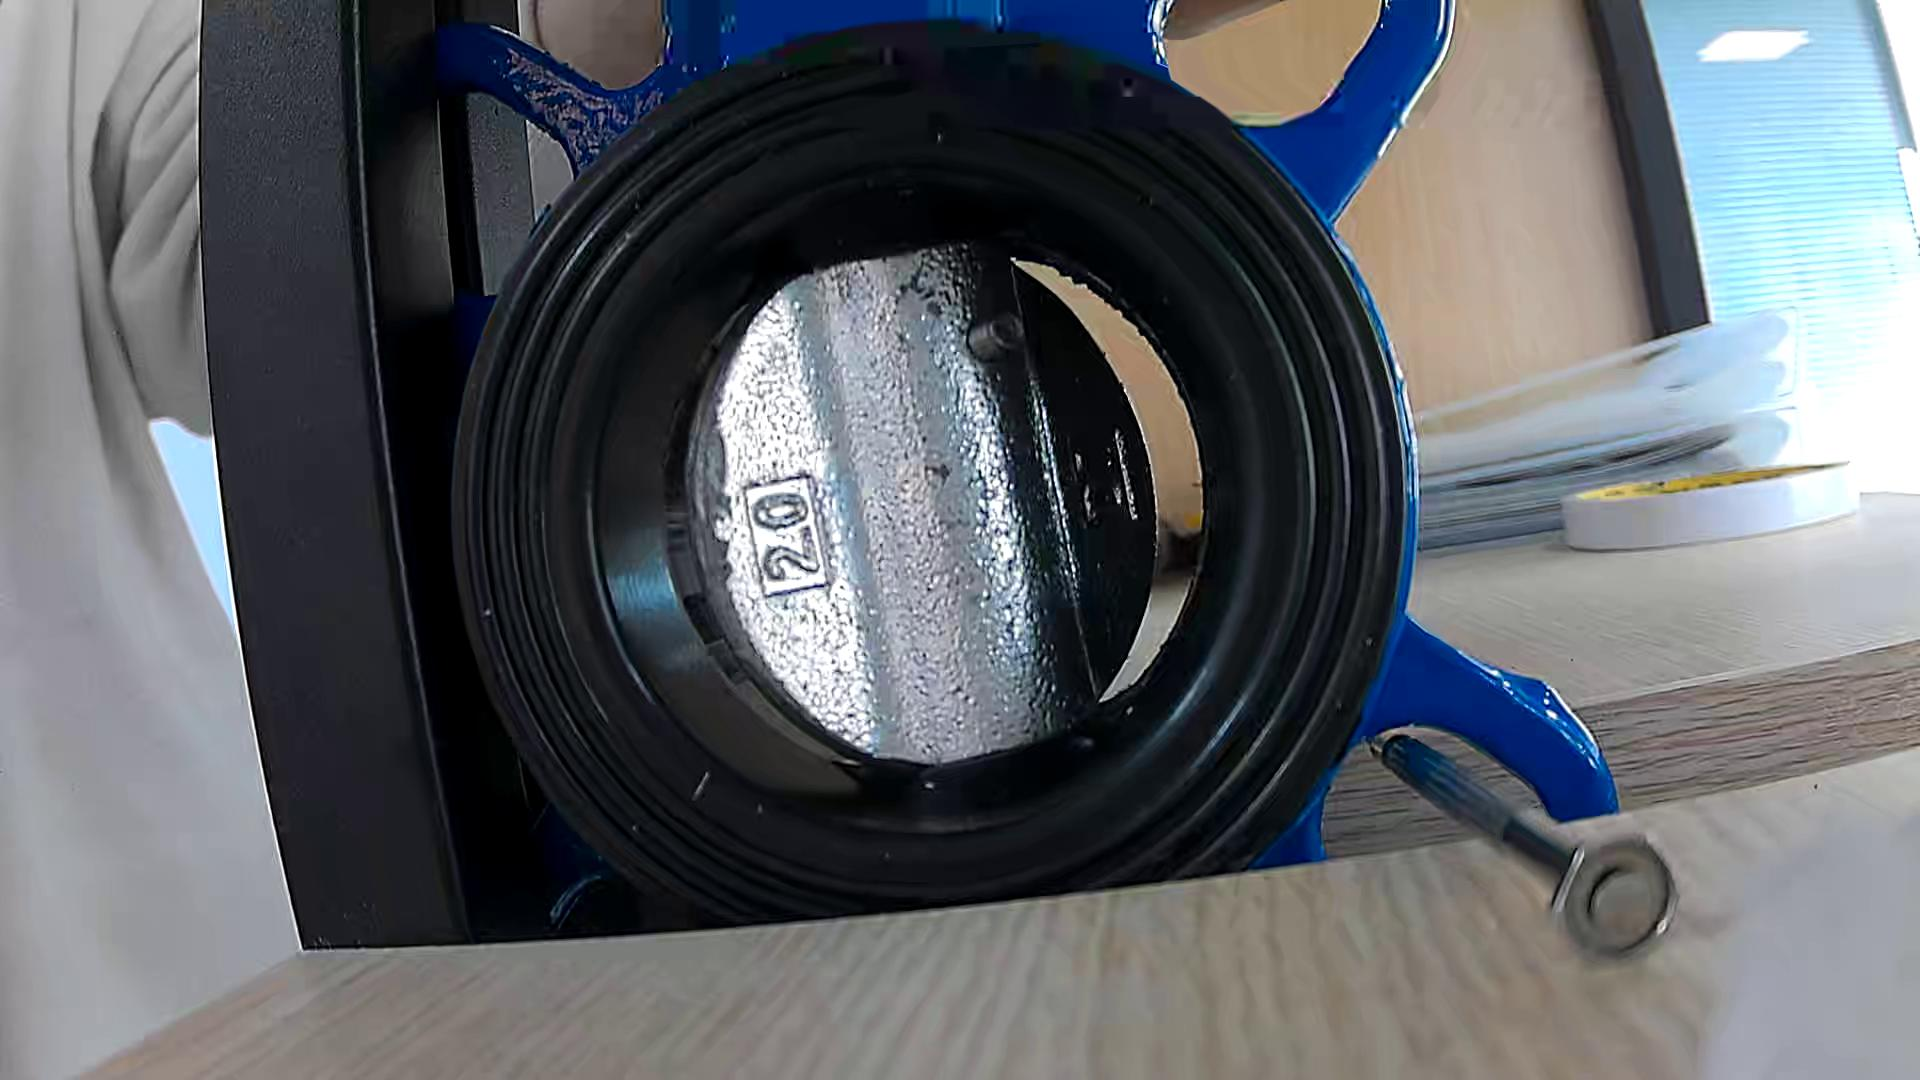valve: (692, 244, 1155, 765)
